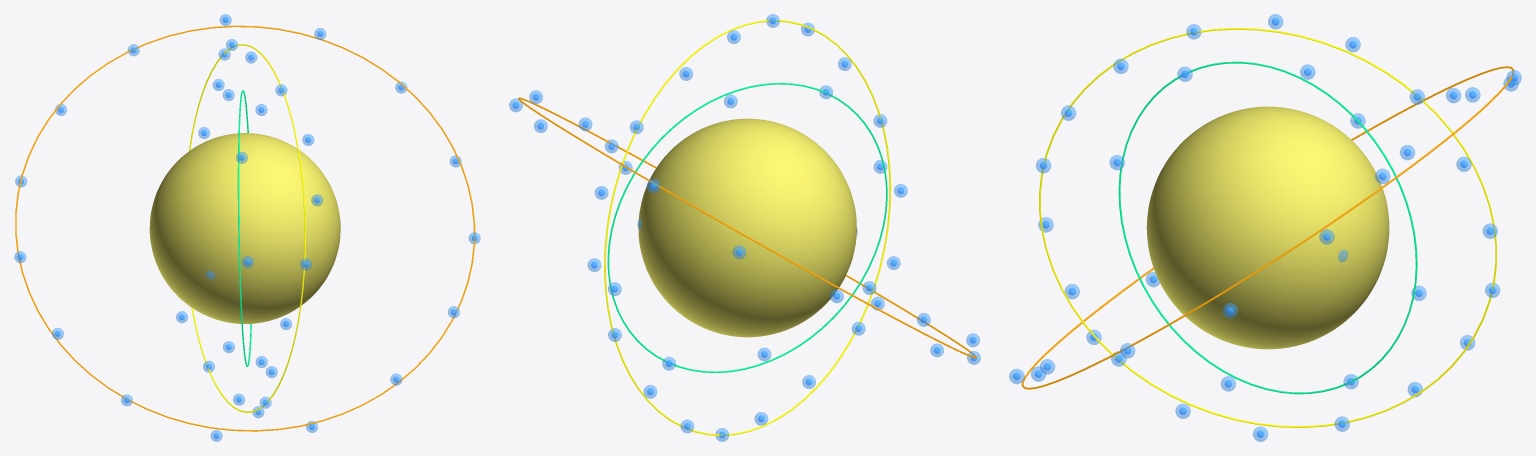
The picture shows the model from 3 angles, left to right: view 1: azimuth 30°, elevation 25°; view 2: azimuth 150°, elevation 25°; view 3: azimuth 270°, elevation 25°; orthographic projection. The views are drawn at different scales.
Visible parts, largest first — view 1: Tc, object 61, object 24, object 7; view 2: Tc, object 24, object 7, object 61; view 3: Tc, object 24, object 7, object 61.
Boxes of the visible parts, <box> form: Tc: <box>149,133,340,323</box>; object 61: <box>15,25,475,431</box>; object 24: <box>189,44,305,412</box>; object 7: <box>237,90,251,366</box>; Tc: <box>638,118,856,337</box>; object 24: <box>604,20,891,435</box>; object 7: <box>607,83,887,372</box>; object 61: <box>518,97,977,358</box>; Tc: <box>1146,106,1389,349</box>; object 24: <box>1039,28,1496,427</box>; object 7: <box>1118,61,1417,394</box>; object 61: <box>1021,66,1514,389</box>.
Bounding box in the file's own units: 6.01 × 4.96 × 5.27.
